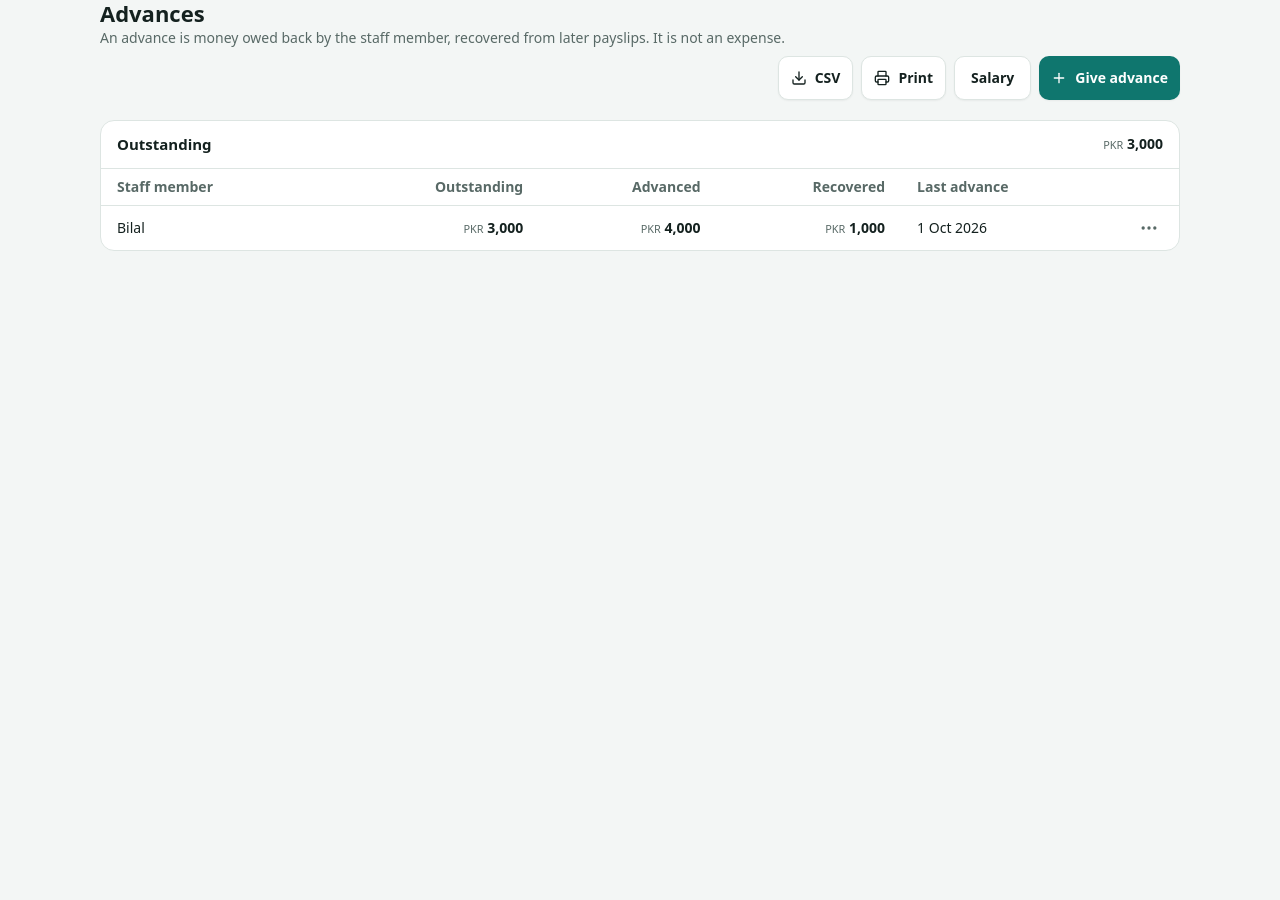
Test: advances (rebuilt) › "Give advance" from a row opens the dialog with that person chosen
Expected: the element with id "advance-total" reads "PKR 3,000", [1103,134,1163,154]
Press Enter in the button named "More actions: Bilal", box [1127,206,1171,250]
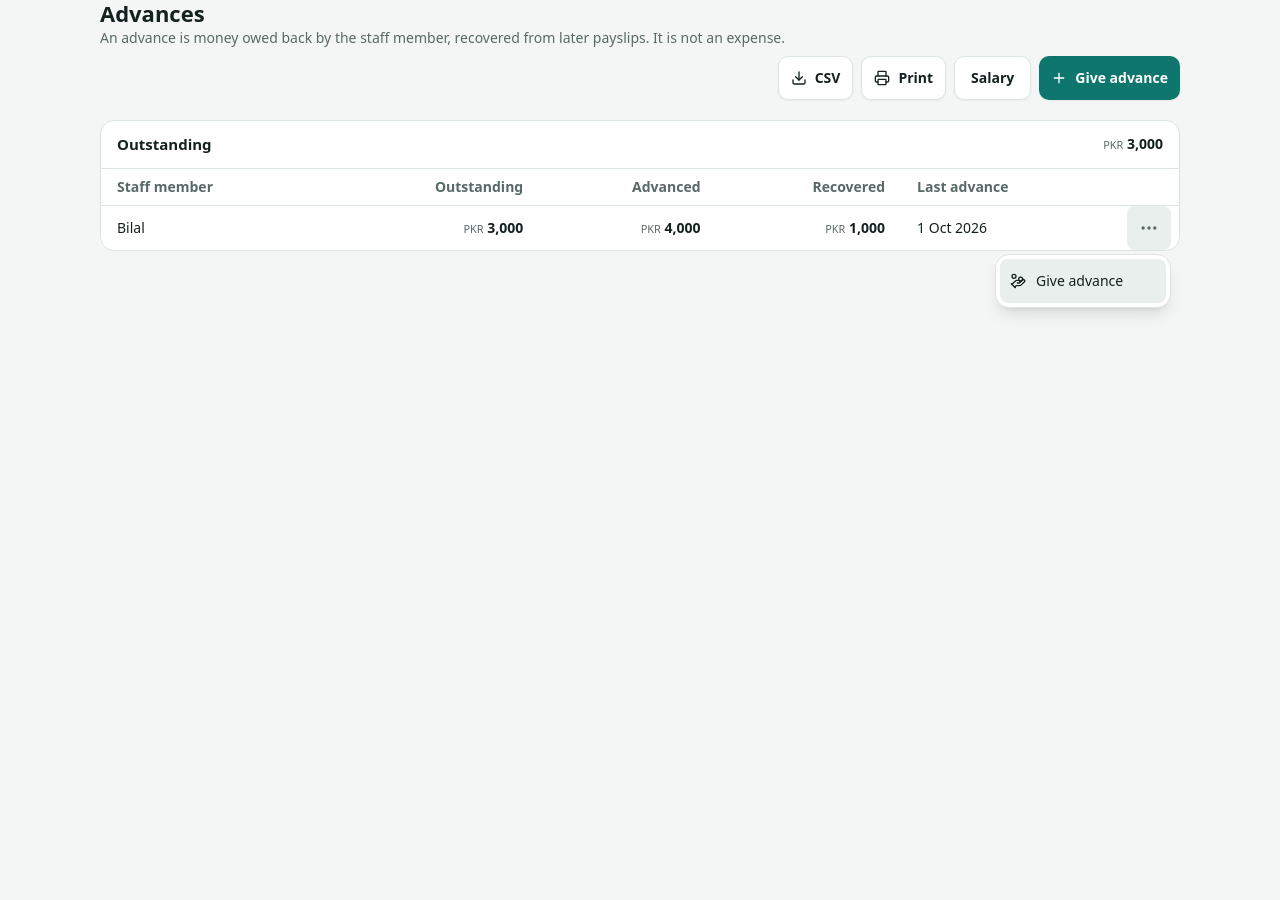
Click the menu item "Give advance": [1083, 281] box [1000,259,1166,303]
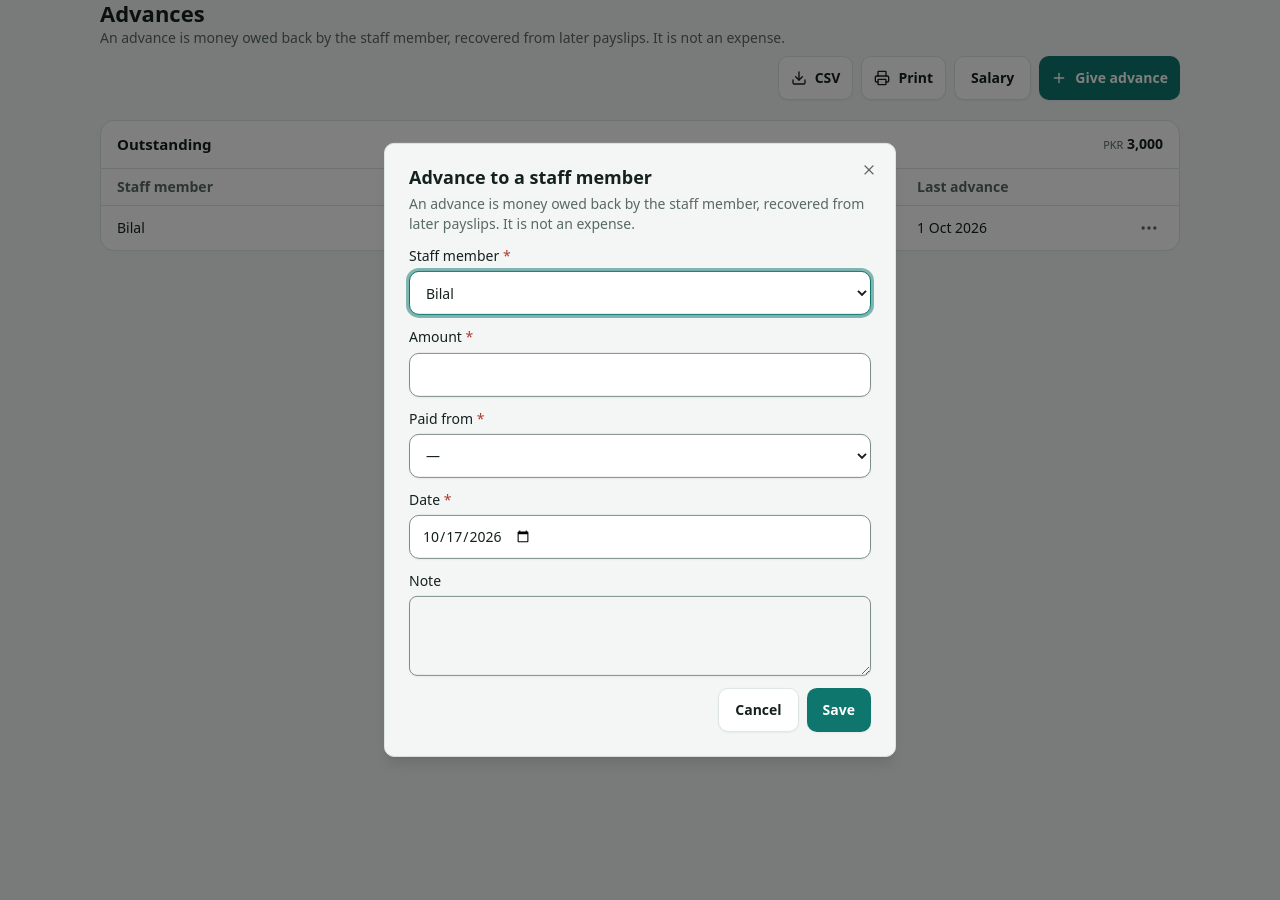
Expected: the dropdown with id "advance-staff" shows "Bilal", [409,271,871,315]
